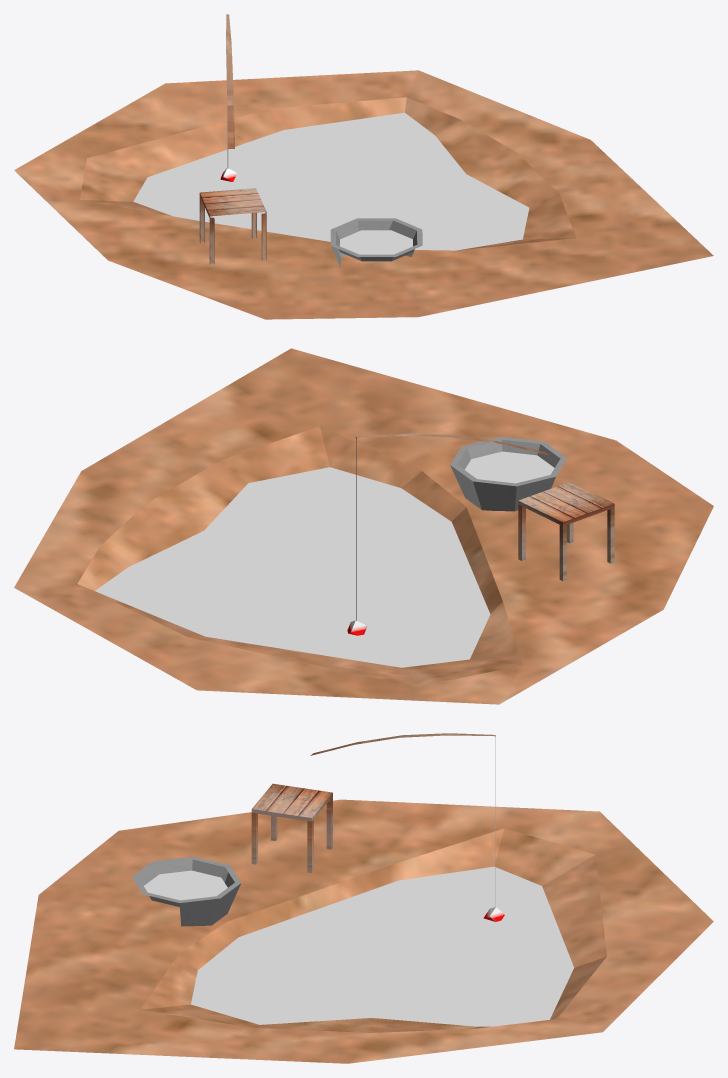
The model's file is FishSpawner.fbx.
3 renders of one model, top to bottom at view 1: azimuth 30°, elevation 25°; view 2: azimuth 150°, elevation 25°; view 3: azimuth 270°, elevation 25°, orthographic. The views are drawn at different scales.
Visible parts, largest first — view 1: Ground, Water; view 2: Ground, Water; view 3: Ground, Water.
Part boxes in pixels (box(x1,y1,x2,y2)): Ground: box(14, 14, 713, 319); Water: box(133, 112, 529, 254); Ground: box(14, 348, 713, 704); Water: box(95, 451, 554, 667); Ground: box(14, 733, 713, 1063); Water: box(144, 866, 573, 1026).
Size of the model in its own units: 228 by 76.94 by 256.
